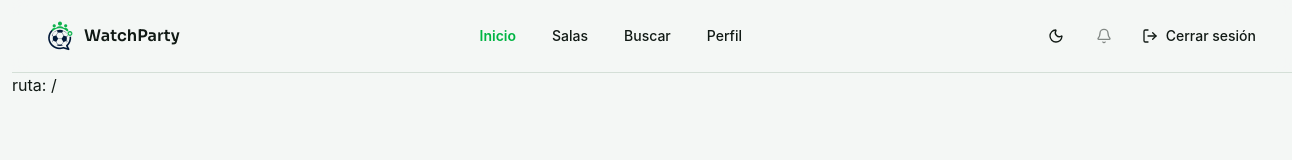
Test case: AppHeader — cerrar sesión › anuncia un error de cierre sin sacar a la persona de la página
This screenshot has width=1292, height=160.
Click the button "Cerrar sesión": point(1199, 36) [1130, 14, 1268, 58]
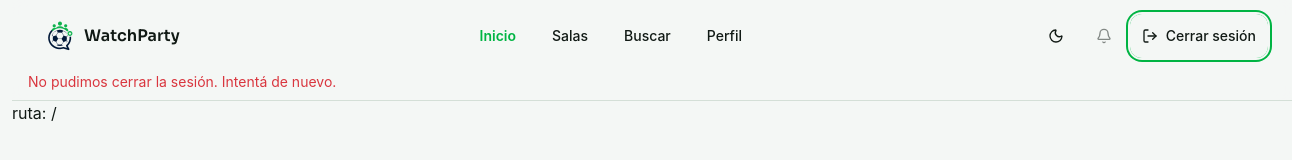
Check: the message shows "No pudimos cerrar la sesión.", box [28, 73, 336, 90]
